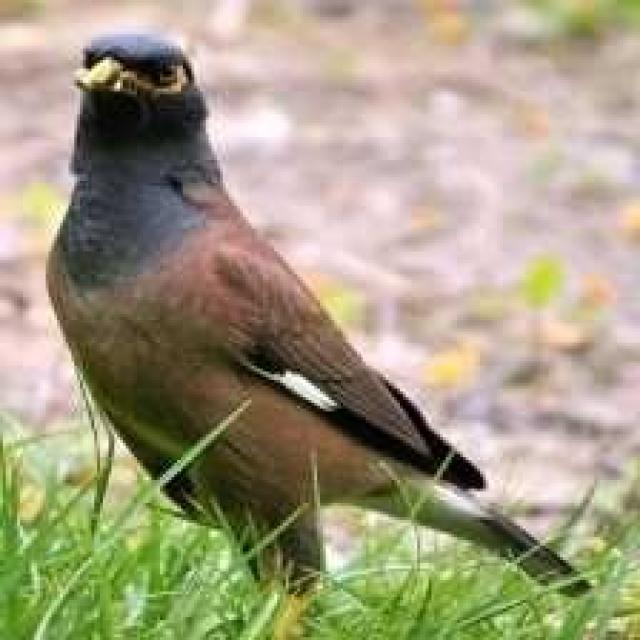bird: (46, 29, 587, 636)
